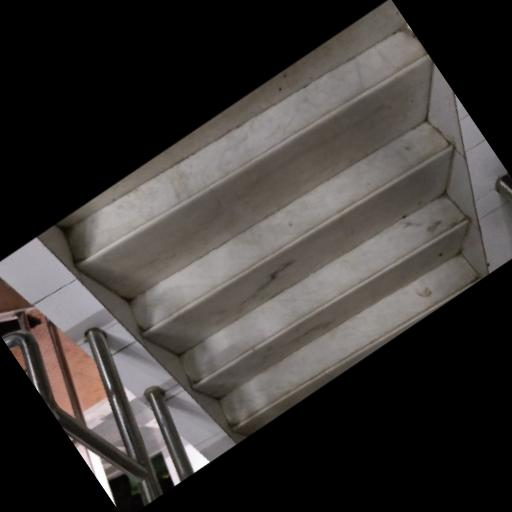stairs: (64, 30, 477, 434)
